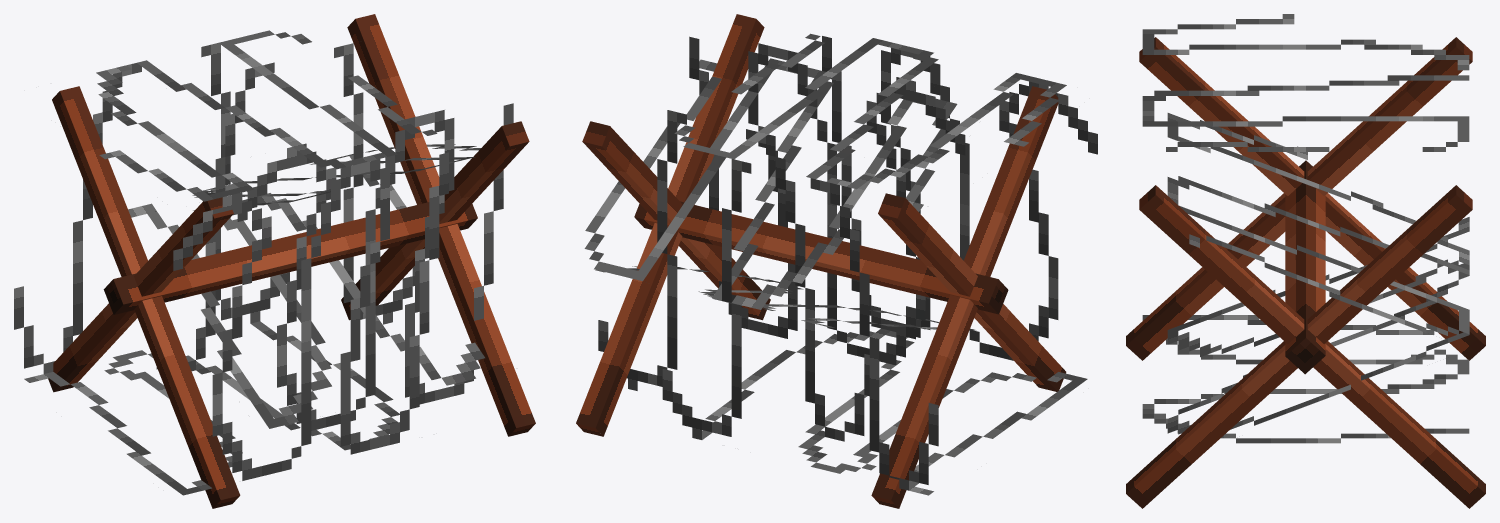
File: barbedfence.gltf
3 views of the same model, side by side, from view 1: azimuth 30°, elevation 25°; view 2: azimuth 150°, elevation 25°; view 3: azimuth 270°, elevation 25° (orthographic). The views are drawn at different scales.
Visible parts, largest first — view 1: cube (×13); view 2: cube (×13); view 3: cube (×9).
Boxes of the visible parts, x1=… form: cube (×13): x1=14, y1=14, x2=535, y2=508; cube (×13): x1=576, y1=14, x2=1097, y2=508; cube (×9): x1=1126, y1=14, x2=1485, y2=508.
Bounding box in the file's own units: 1.19 × 0.9376 × 0.9634.
Materials: 1 (1 with a texture image).
